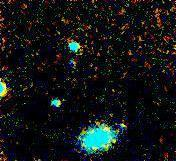star: (100, 127, 130, 157)
